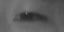RightEyeFatigue: (4, 2, 60, 31)
